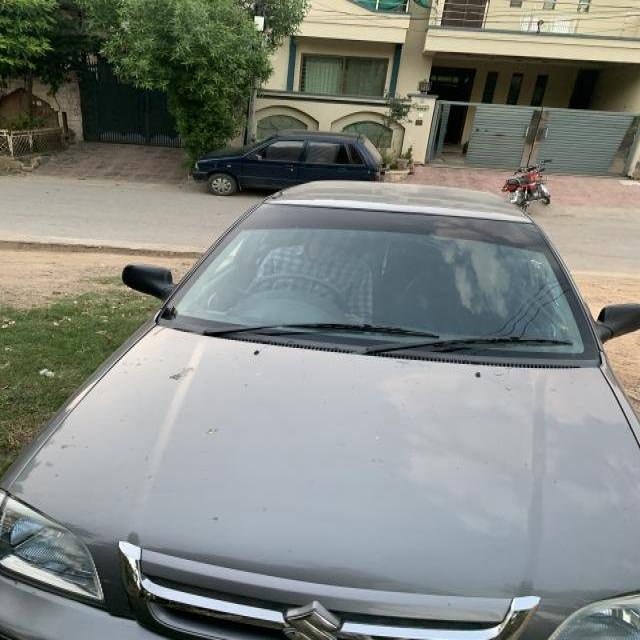no-seatbelt: (273, 248, 379, 314)
